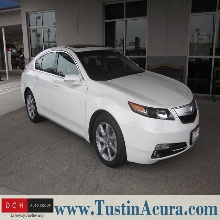no damage: (20, 43, 201, 168)
